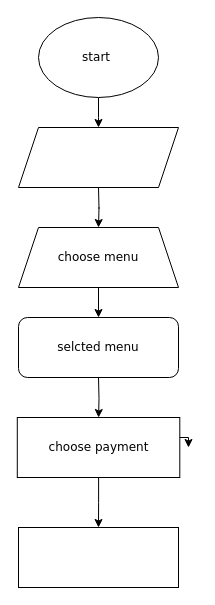
Some shapes in this 215 by 605 pixel diagram are drawn without their labels. Each missing label, with the centre of its shape:
add address: pixel 98 557
open the app: pixel 98 157
